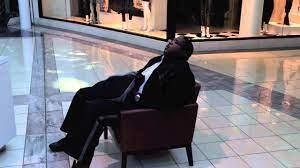sleep: (136, 35, 206, 91)
